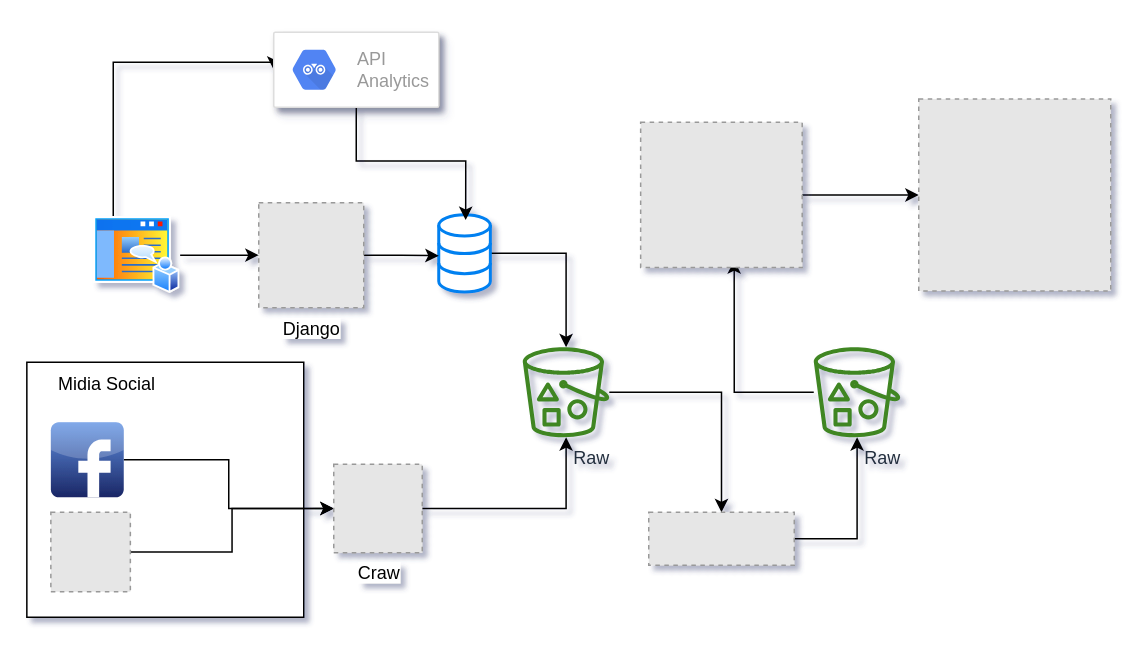
The diagram is 1146 pixels wide and 653 high, and some of its shapes have lost their labels. Grey dashed boxes stand in for pictures. Here are the shapes that lost their labels. From the top down, the centre of each, then its label:
At point 136,254: "Site".
At point 463,252: "Banco Mongos".
